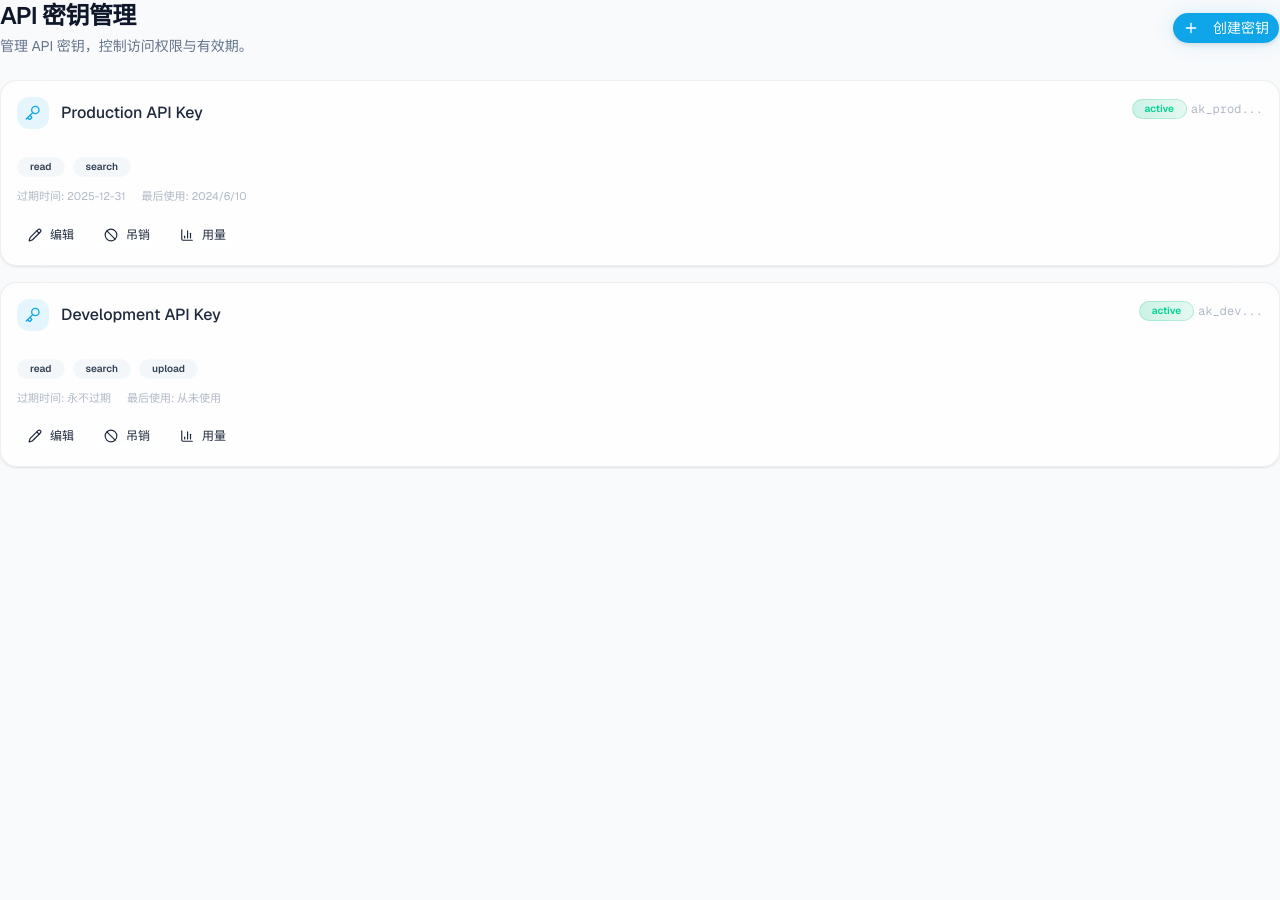
Test: ApiKeysPage › API Keys Page - Success › clicking a key opens detail modal
Click the text "Production API Key".
click(132, 113)  # box [61,101,203,125]
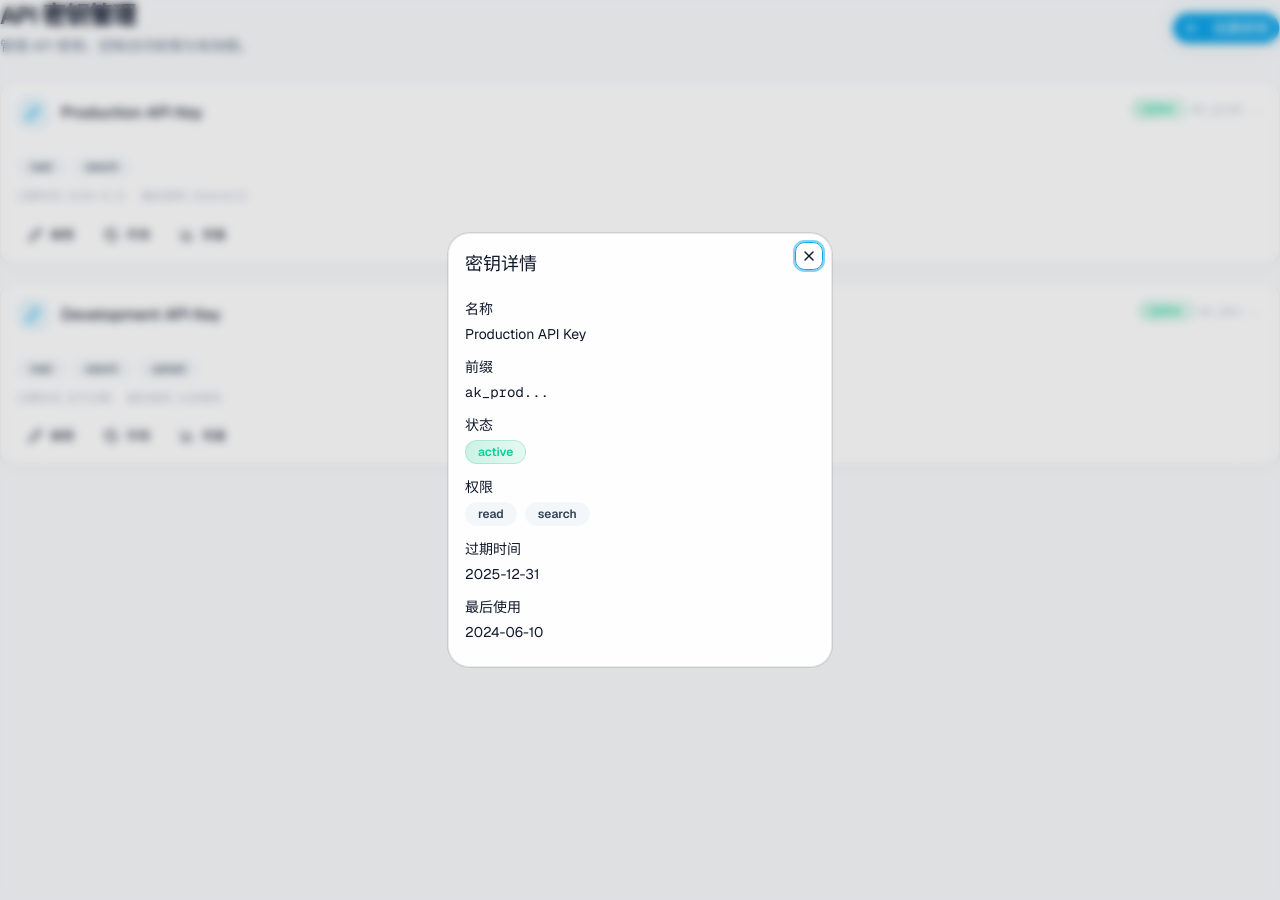
Result: the dialog with test id "api-key-detail-dialog" is shown at [448,233,832,667]
